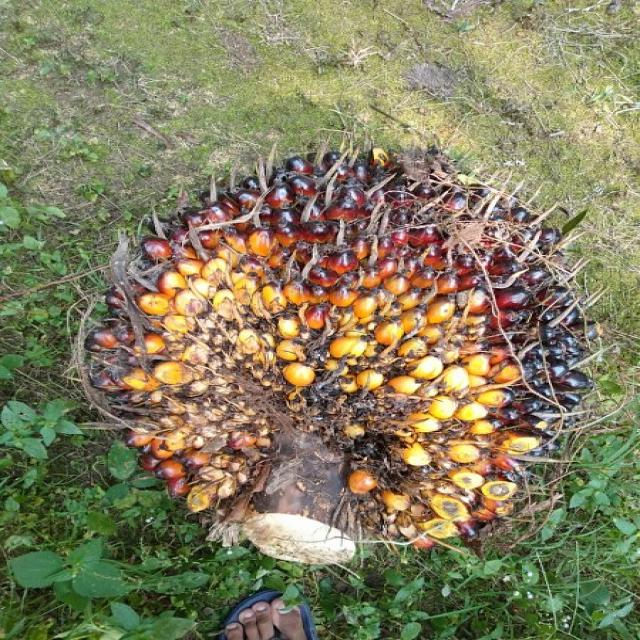fraksi 00: (48, 106, 613, 554)
